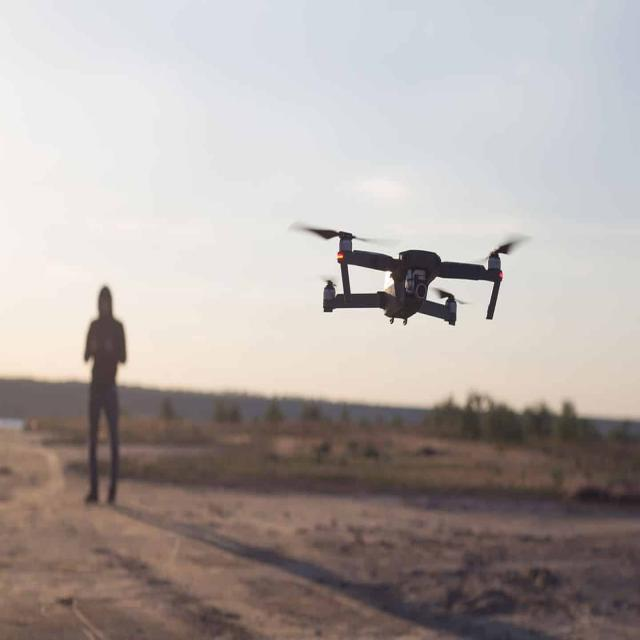drone: (285, 218, 534, 328)
